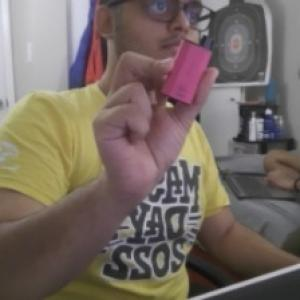Blume-E-Ciggirate: (161, 31, 215, 108)
